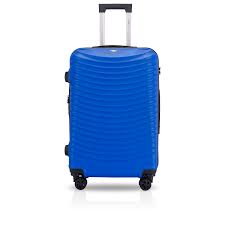suitcase: (61, 3, 160, 192)
